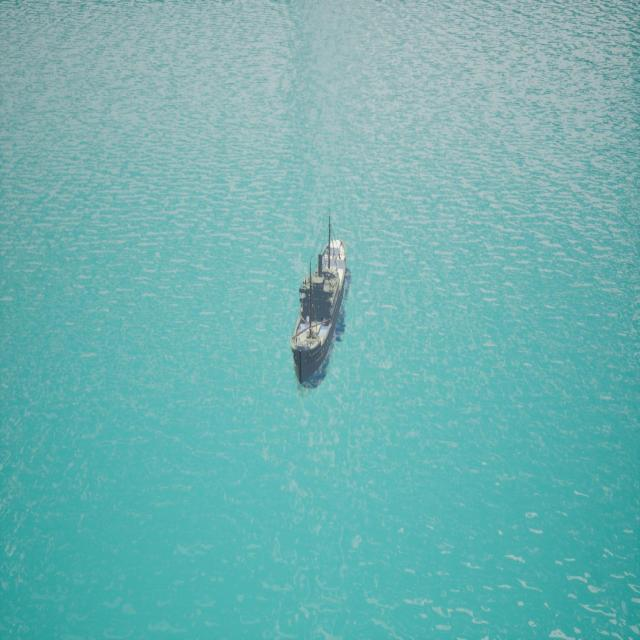fishing ship: (288, 240, 350, 389)
